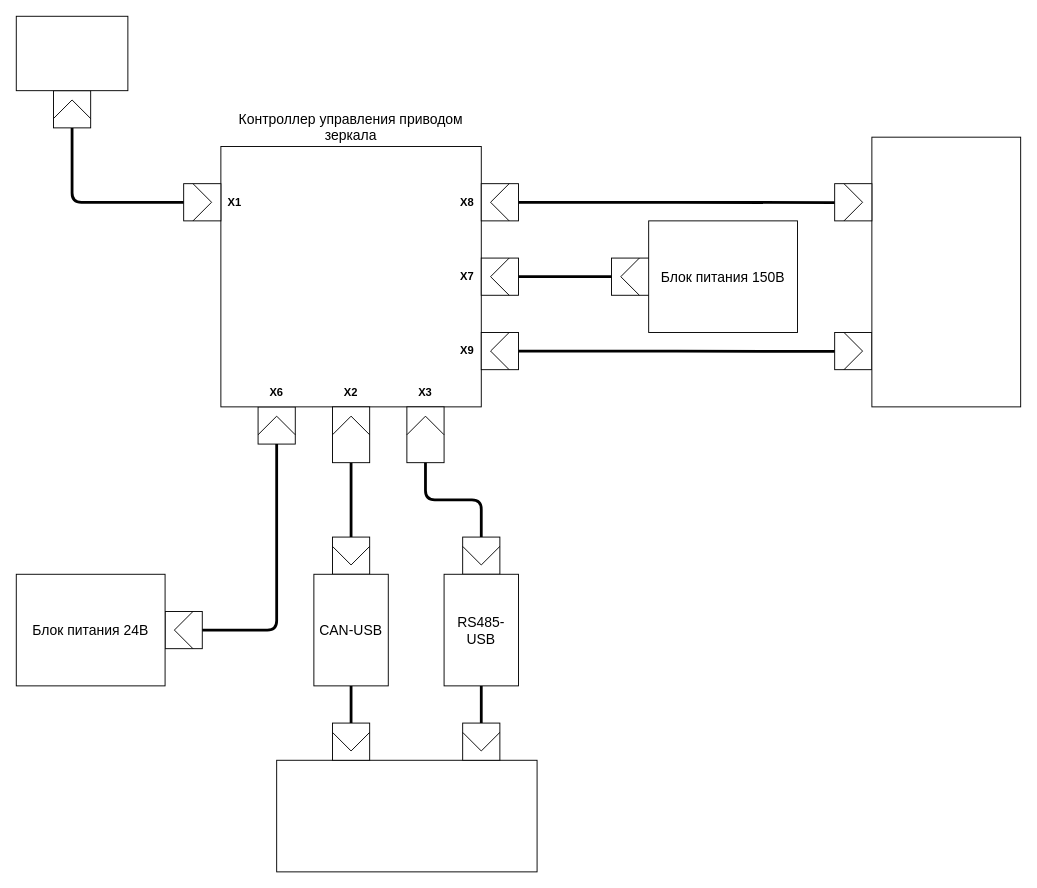
This 1037x888 diagram has some shape labels left out. Here are the shapes that lost their labels. From the top down, the centre of each, then its label:
At (x=71, y=53): "Плата ПЧД".
At (x=946, y=271): "Привод поворота зеркала".
At (x=406, y=815): "АРМ".
